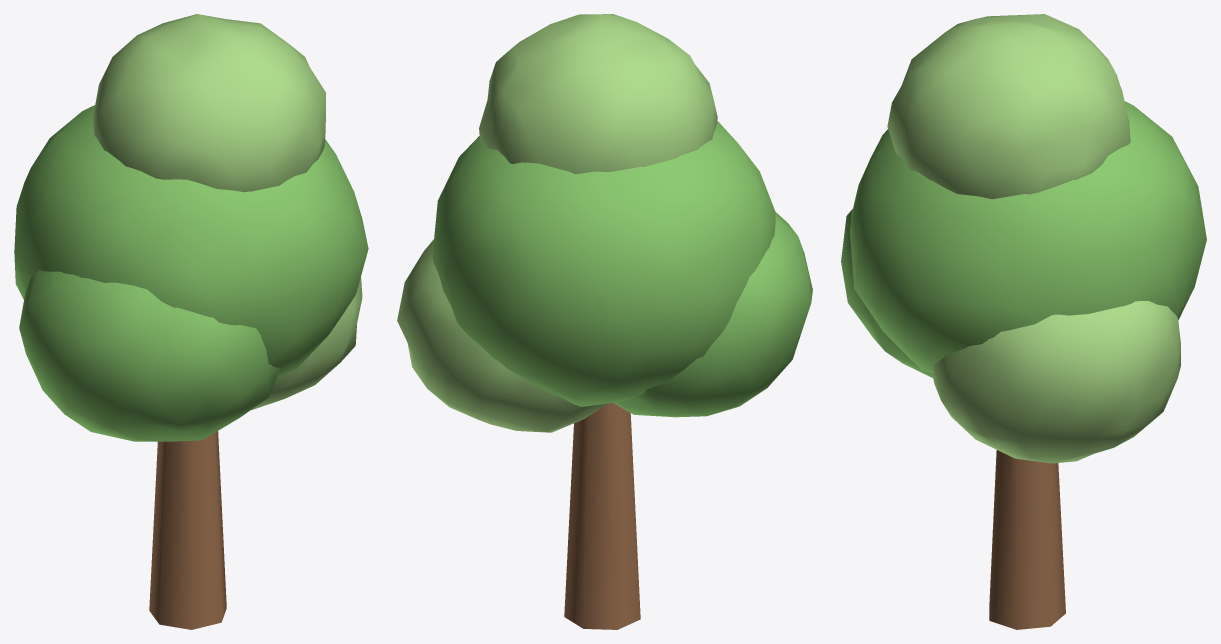
File: tree_round.glb
3 views of the same model, side by side, from view 1: azimuth 30°, elevation 25°; view 2: azimuth 150°, elevation 25°; view 3: azimuth 270°, elevation 25° (orthographic). The views are drawn at different scales.
Parts seen in each view (by area): view 1: TreeRound; view 2: TreeRound; view 3: TreeRound.
Boxes of the visible parts, <box> form: TreeRound: <box>14,14,368,629</box>; TreeRound: <box>397,14,812,629</box>; TreeRound: <box>841,14,1206,629</box>.
Bounding box in the file's own units: 1.39 × 2.28 × 1.27.
